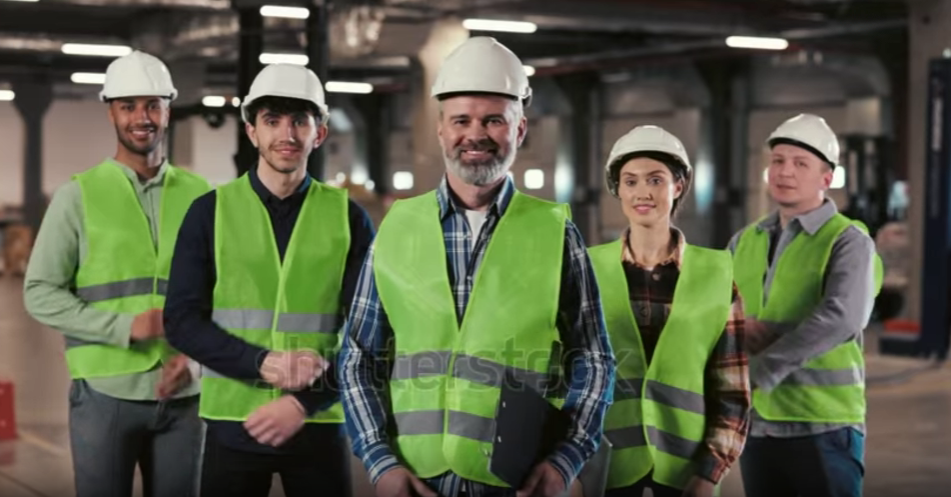safety_helmet: (430, 35, 533, 106), (604, 124, 693, 201), (765, 112, 846, 189), (240, 62, 329, 125), (98, 49, 178, 103), (766, 112, 841, 169)
